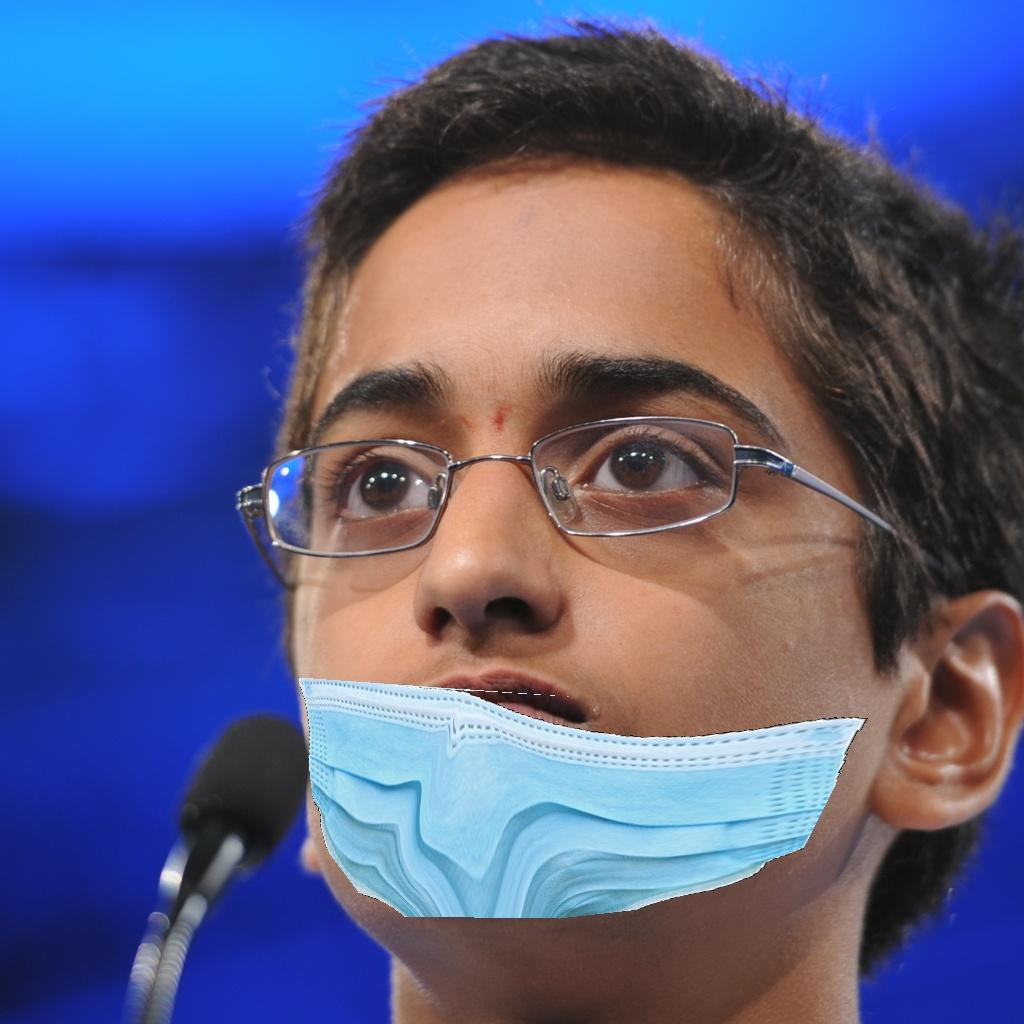Máscara Incorreta: (242, 207, 946, 933)
